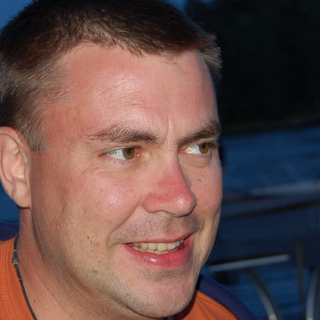eye: (102, 140, 150, 165), (177, 135, 220, 161)
